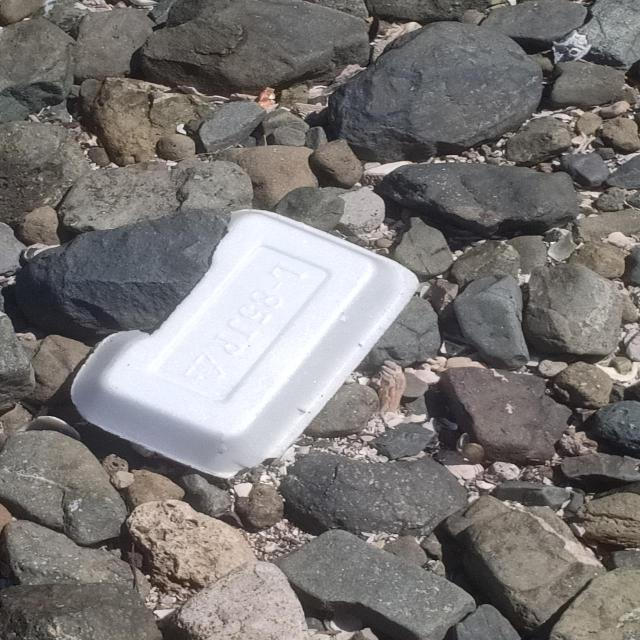styrofoam_waste: (68, 208, 422, 482)
